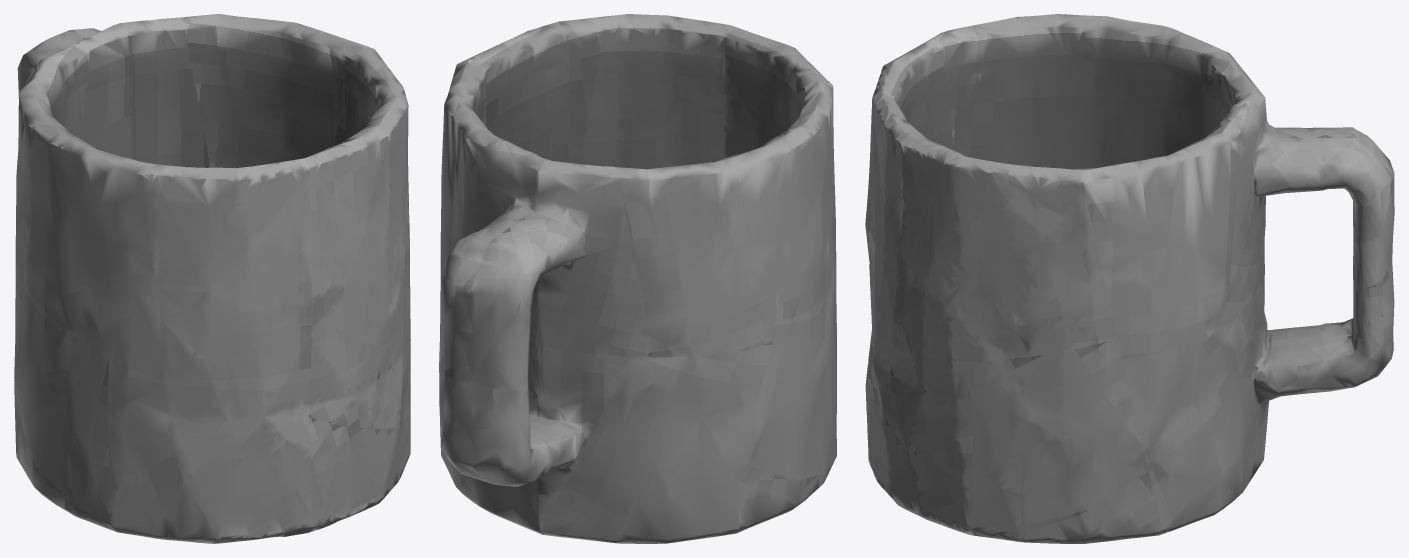
Rendered from m_mug.glb.
3 views of the same model, side by side, from view 1: azimuth 30°, elevation 25°; view 2: azimuth 150°, elevation 25°; view 3: azimuth 270°, elevation 25° (orthographic).
Visible parts, largest first — view 1: tripo_node_829e499e-11cb-496c-aef2-87386e435d69; view 2: tripo_node_829e499e-11cb-496c-aef2-87386e435d69; view 3: tripo_node_829e499e-11cb-496c-aef2-87386e435d69.
Boxes of the visible parts, left/top/right/bottom form: tripo_node_829e499e-11cb-496c-aef2-87386e435d69: left=14, top=14, right=410, bottom=543; tripo_node_829e499e-11cb-496c-aef2-87386e435d69: left=439, top=14, right=836, bottom=543; tripo_node_829e499e-11cb-496c-aef2-87386e435d69: left=865, top=14, right=1394, bottom=543.
Bounding box in the file's own units: 0.751 × 0.7802 × 1.
1 material, 1 textured.
